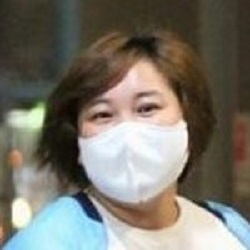mask: (69, 121, 194, 205)
